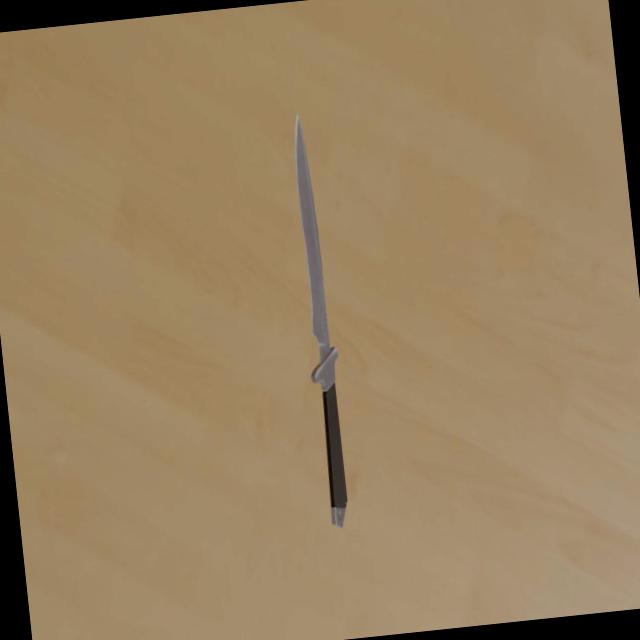knife: (317, 382, 350, 528)
